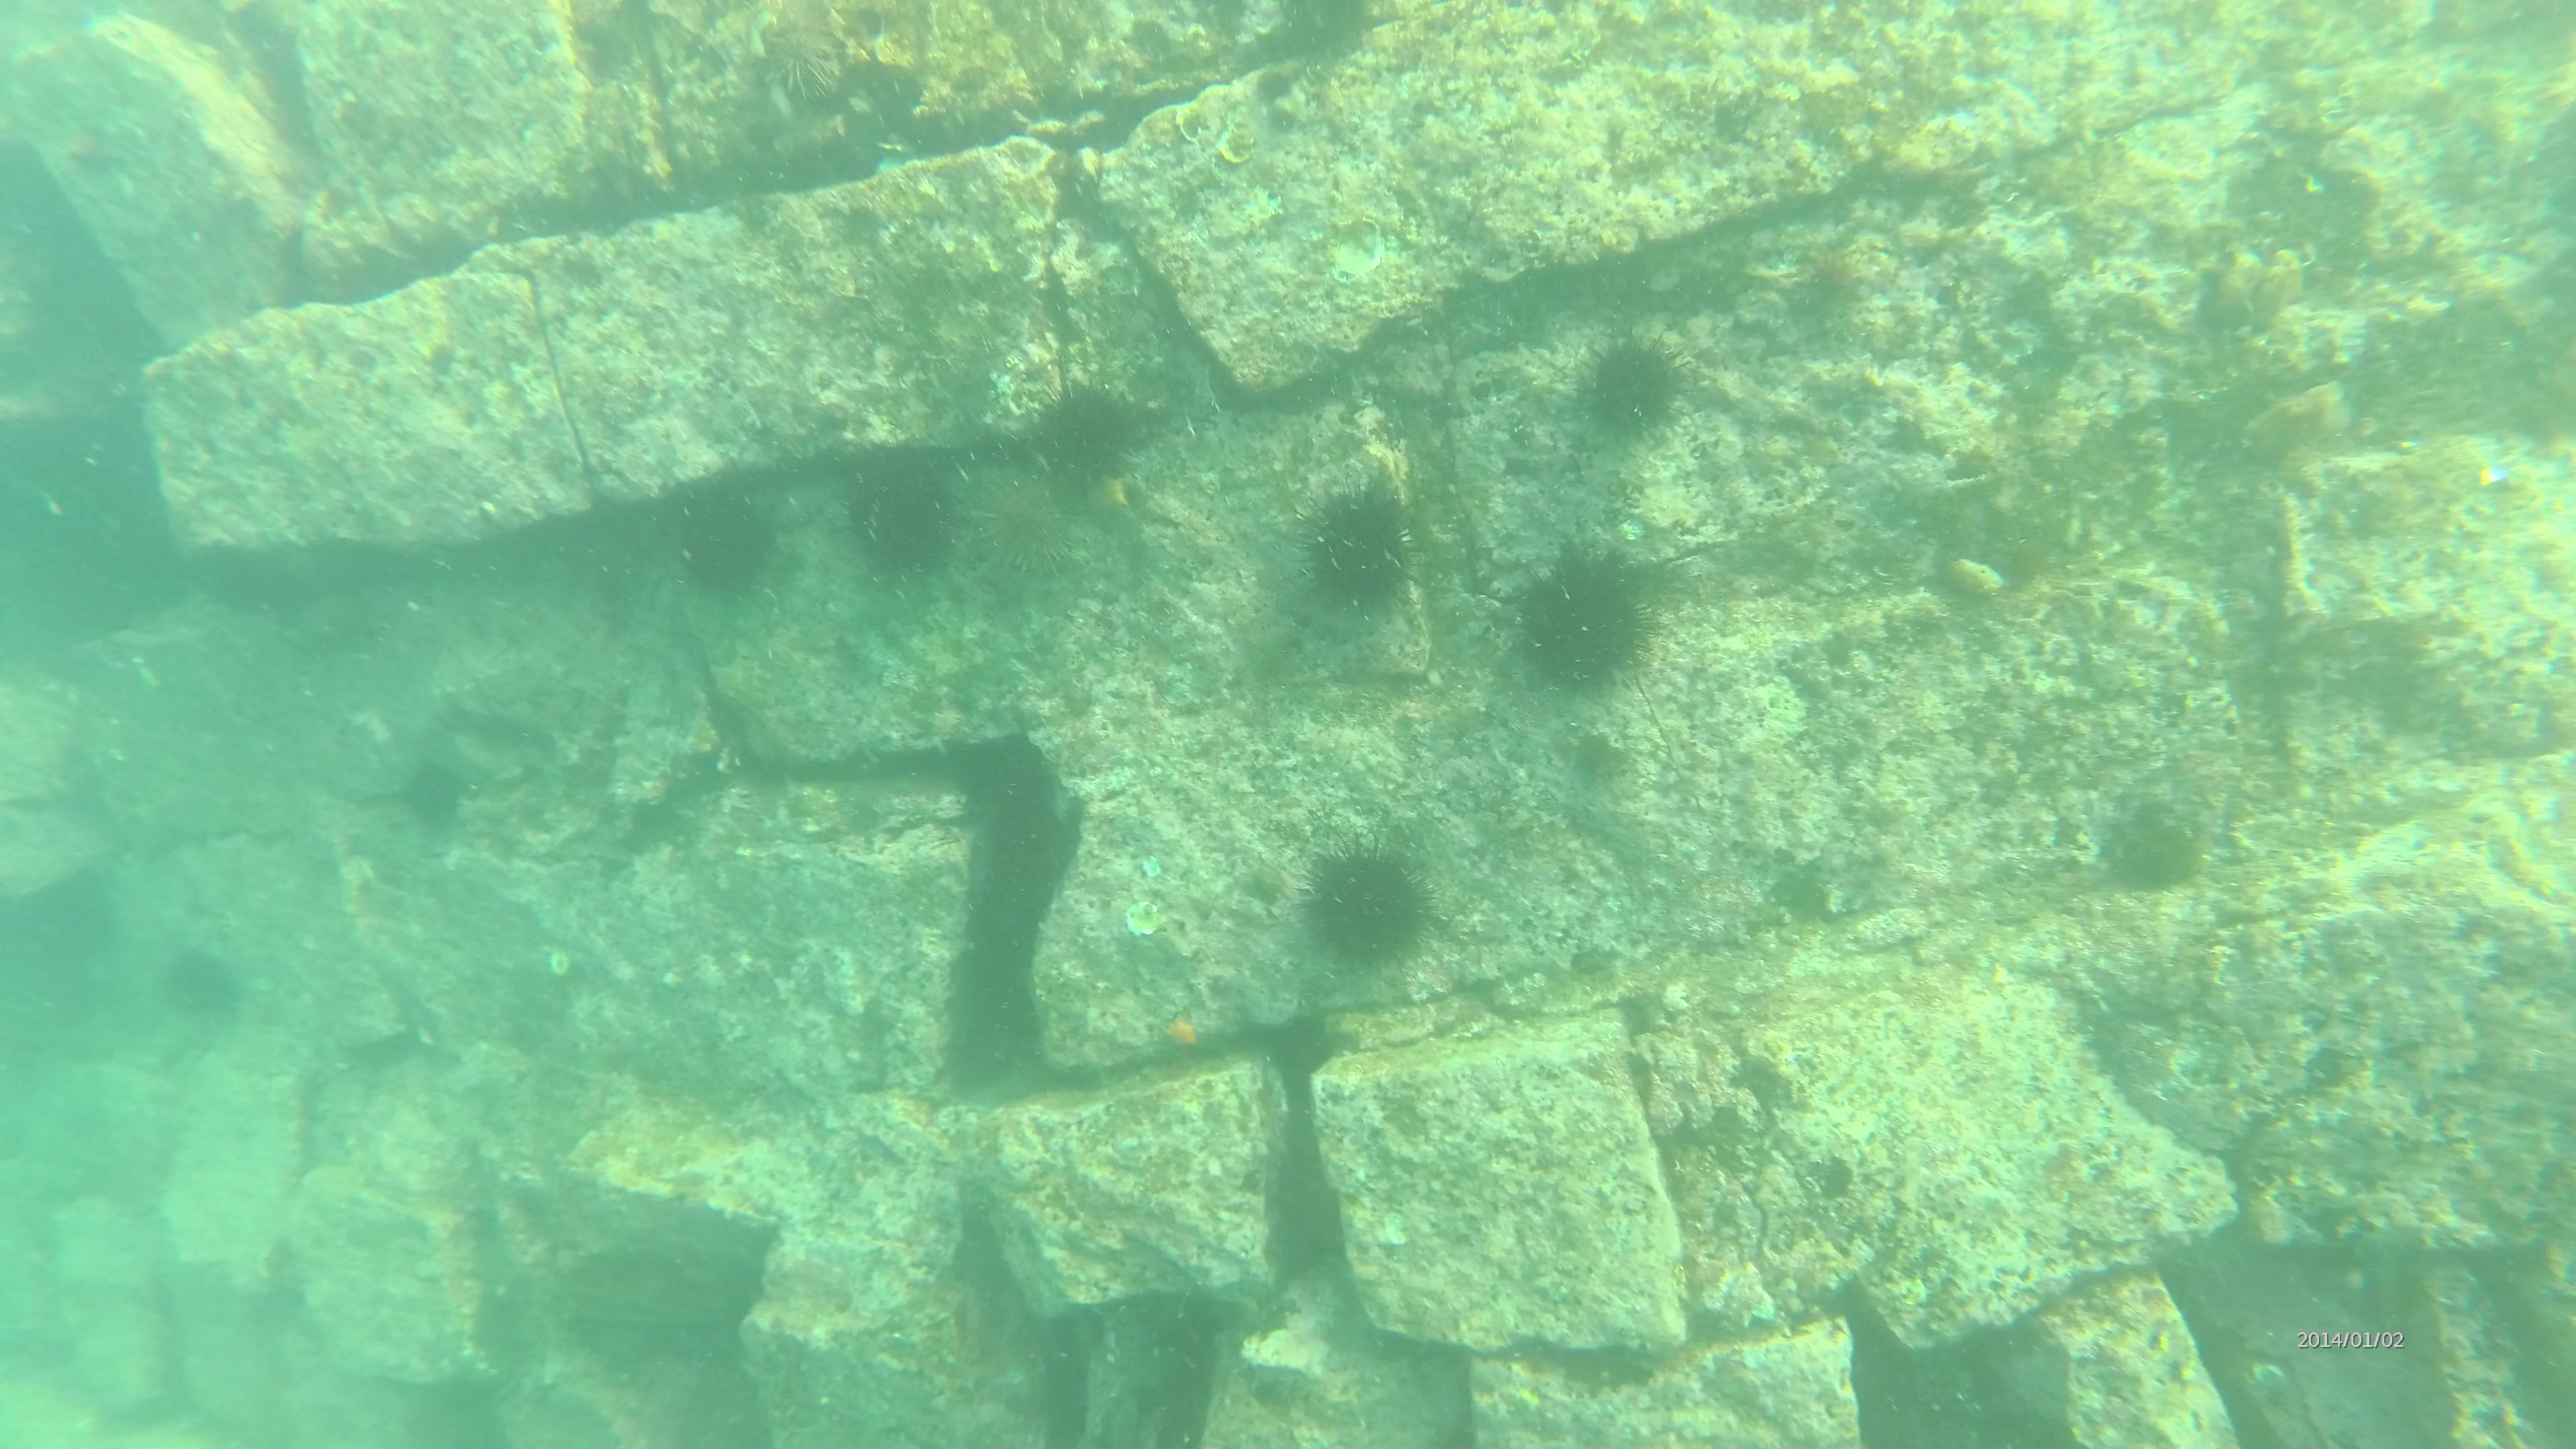echinus: (1516, 540, 1668, 695), (1290, 828, 1440, 970), (1286, 472, 1435, 602), (1014, 377, 1145, 497), (840, 441, 961, 566), (961, 467, 1085, 575), (1582, 329, 1698, 441), (663, 497, 778, 596), (403, 761, 472, 835), (168, 947, 246, 1010)
starfish: (1162, 1014, 1207, 1054)
